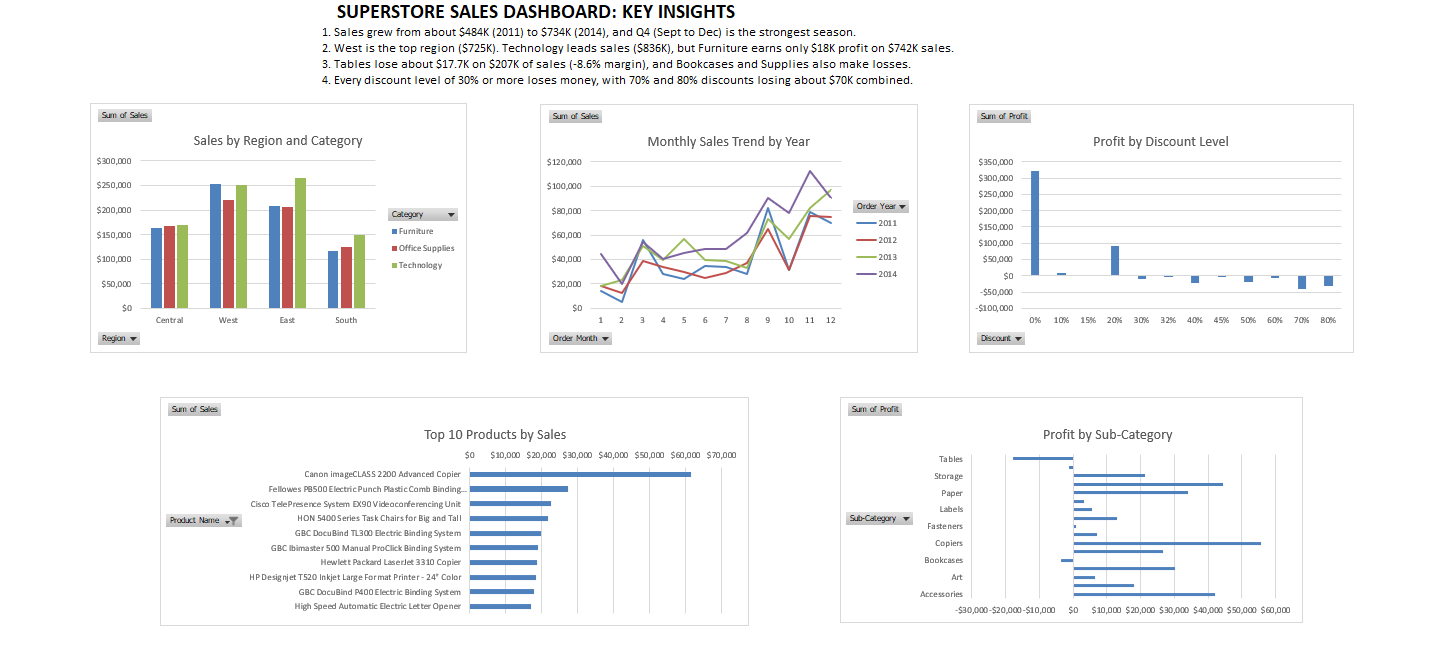

Layout of this report page (visuals, bound fields, positions):
{"tool":"powerbi","page":{"name":"Overview","canvas":[1920,1080],"ordinal":0},"visuals":[{"type":"cardVisual","fields":{"Data":["Sales.Total Sales"]},"box":[780,350,200,90],"z":0},{"type":"cardVisual","fields":{"Data":["Sales.Total Profit"]},"box":[180,350,200,90],"z":1000},{"type":"cardVisual","fields":{"Data":["Sales.Profit Margin %"]},"box":[1380,350,200,90],"z":2000},{"type":"textbox","box":[647.5,52.5,750,72.5],"z":3000},{"type":"clusteredColumnChart","fields":{"Category":["Sales.Region"],"Y":["Sales.Total Sales"]},"box":[1380,487.5,442.5,327.5],"z":4000},{"type":"lineChart","fields":{"Category":["Calendar.Month"],"Series":["Calendar.Year"],"Y":["Sales.Total Sales"]},"box":[705,487.5,450,266],"z":5000},{"type":"clusteredBarChart","fields":{"Category":["Products.Sub-Category"],"Y":["Sales.Total Profit"]},"box":[177.5,487.5,450,571.7],"z":6000},{"type":"slicer","fields":{"Values":["Calendar.Year"]},"box":[1522.5,95,195,220],"z":7000},{"type":"slicer","fields":{"Values":["Sales.Region"]},"box":[1700,95,202.7,229.8],"z":8000},{"type":"textbox","box":[167.5,137.5,1550,200],"z":9000}]}

Visuals, with their boxes on the page's 1920x1080 design canvas (x1, y1, x2, y2). These are canvas units, not pixel positions in the 1442x665 screenshot, which may show the page scaled, cropped or inside an application window:
cardVisual - Sales.Total Sales: (780,350,980,440)
cardVisual - Sales.Total Profit: (180,350,380,440)
cardVisual - Sales.Profit Margin %: (1380,350,1580,440)
textbox: (648,52,1398,125)
clusteredColumnChart - Sales.Region x Sales.Total Sales: (1380,488,1822,815)
lineChart - Calendar.Month x Calendar.Year: (705,488,1155,754)
clusteredBarChart - Products.Sub-Category x Sales.Total Profit: (178,488,628,1059)
slicer - Calendar.Year: (1522,95,1718,315)
slicer - Sales.Region: (1700,95,1903,325)
textbox: (168,138,1718,338)
